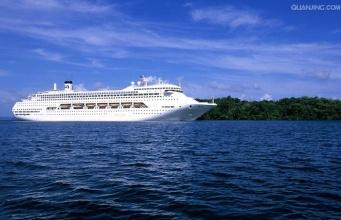youlun: (9, 71, 221, 121)
